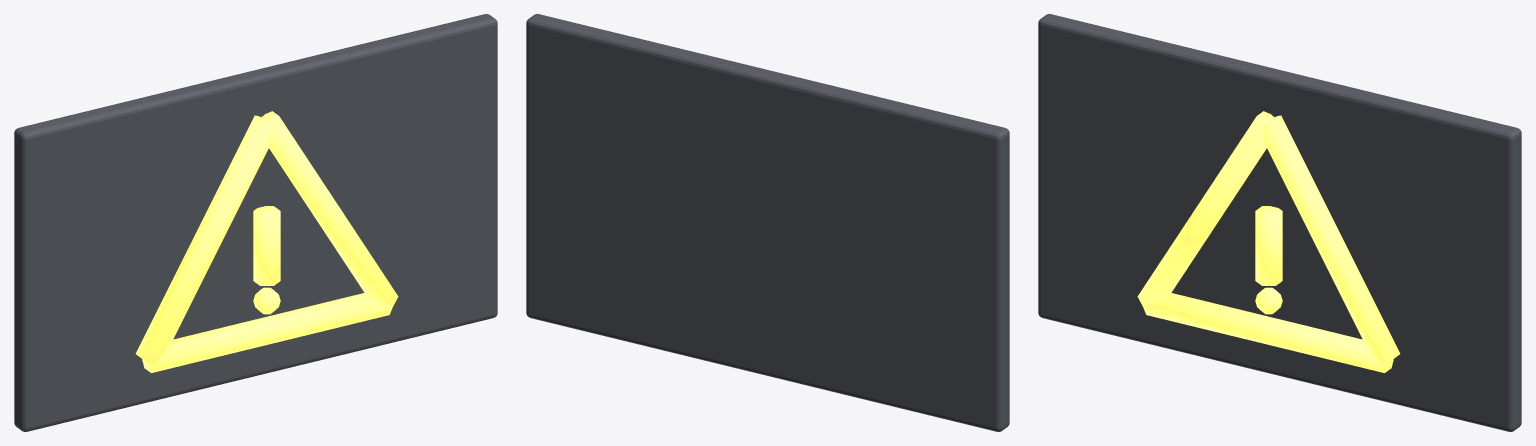
File: neon_sign_triangle.glb
3 renders of one model, left to right at view 1: azimuth 30°, elevation 25°; view 2: azimuth 150°, elevation 25°; view 3: azimuth 330°, elevation 25°, orthographic.
Visible parts, largest first — view 1: GD_neon_sign_triangle__m0, GD_neon_sign_triangle__m1; view 2: GD_neon_sign_triangle__m0; view 3: GD_neon_sign_triangle__m0, GD_neon_sign_triangle__m1.
Part boxes in pixels (box(x1,y1,x2,y2)): GD_neon_sign_triangle__m0: box(14, 14, 497, 431); GD_neon_sign_triangle__m1: box(135, 111, 398, 372); GD_neon_sign_triangle__m0: box(526, 14, 1009, 431); GD_neon_sign_triangle__m0: box(1038, 14, 1521, 431); GD_neon_sign_triangle__m1: box(1137, 111, 1400, 372).
Size of the model in its own units: 1 by 0.6 by 0.085.
